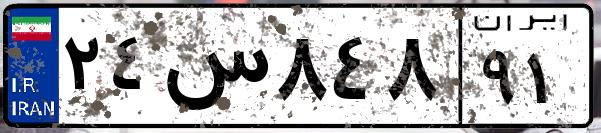1: (525, 38, 570, 115)
2: (57, 26, 110, 100)
4: (330, 28, 385, 110), (110, 28, 158, 98)
8: (270, 28, 330, 110), (385, 28, 445, 110)
9: (475, 38, 525, 113)
س: (158, 20, 270, 120)
